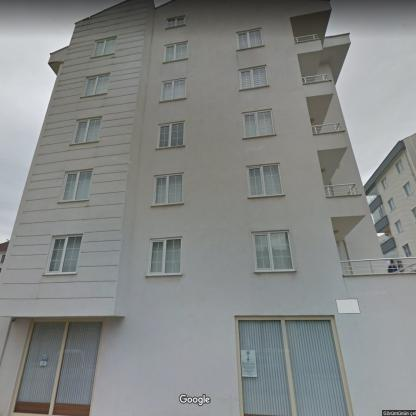door: (283, 317, 351, 414), (11, 320, 69, 415)
window: (235, 317, 294, 416), (53, 320, 104, 414), (253, 232, 294, 271), (46, 235, 82, 273), (149, 237, 181, 274), (247, 164, 283, 196), (61, 170, 93, 201), (154, 174, 184, 205), (243, 110, 274, 138), (72, 118, 102, 144), (158, 122, 184, 148), (240, 66, 267, 88), (83, 74, 109, 96), (160, 80, 186, 102), (237, 30, 263, 50), (92, 37, 116, 56), (164, 43, 187, 62), (167, 16, 185, 28), (396, 160, 404, 174), (404, 183, 412, 196), (402, 244, 410, 257), (395, 220, 402, 233), (388, 198, 395, 210), (382, 177, 388, 189), (412, 208, 416, 219)
